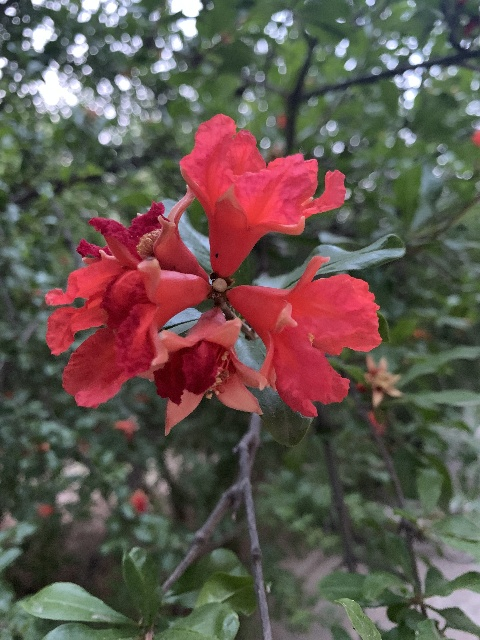flower: (172, 113, 346, 280), (225, 255, 382, 416), (43, 257, 209, 407), (136, 304, 267, 435), (77, 183, 208, 283)
